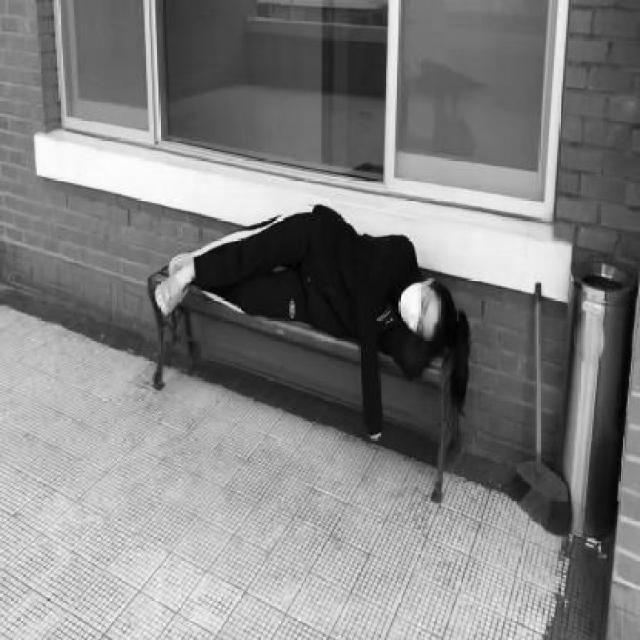person: (152, 197, 452, 406)
